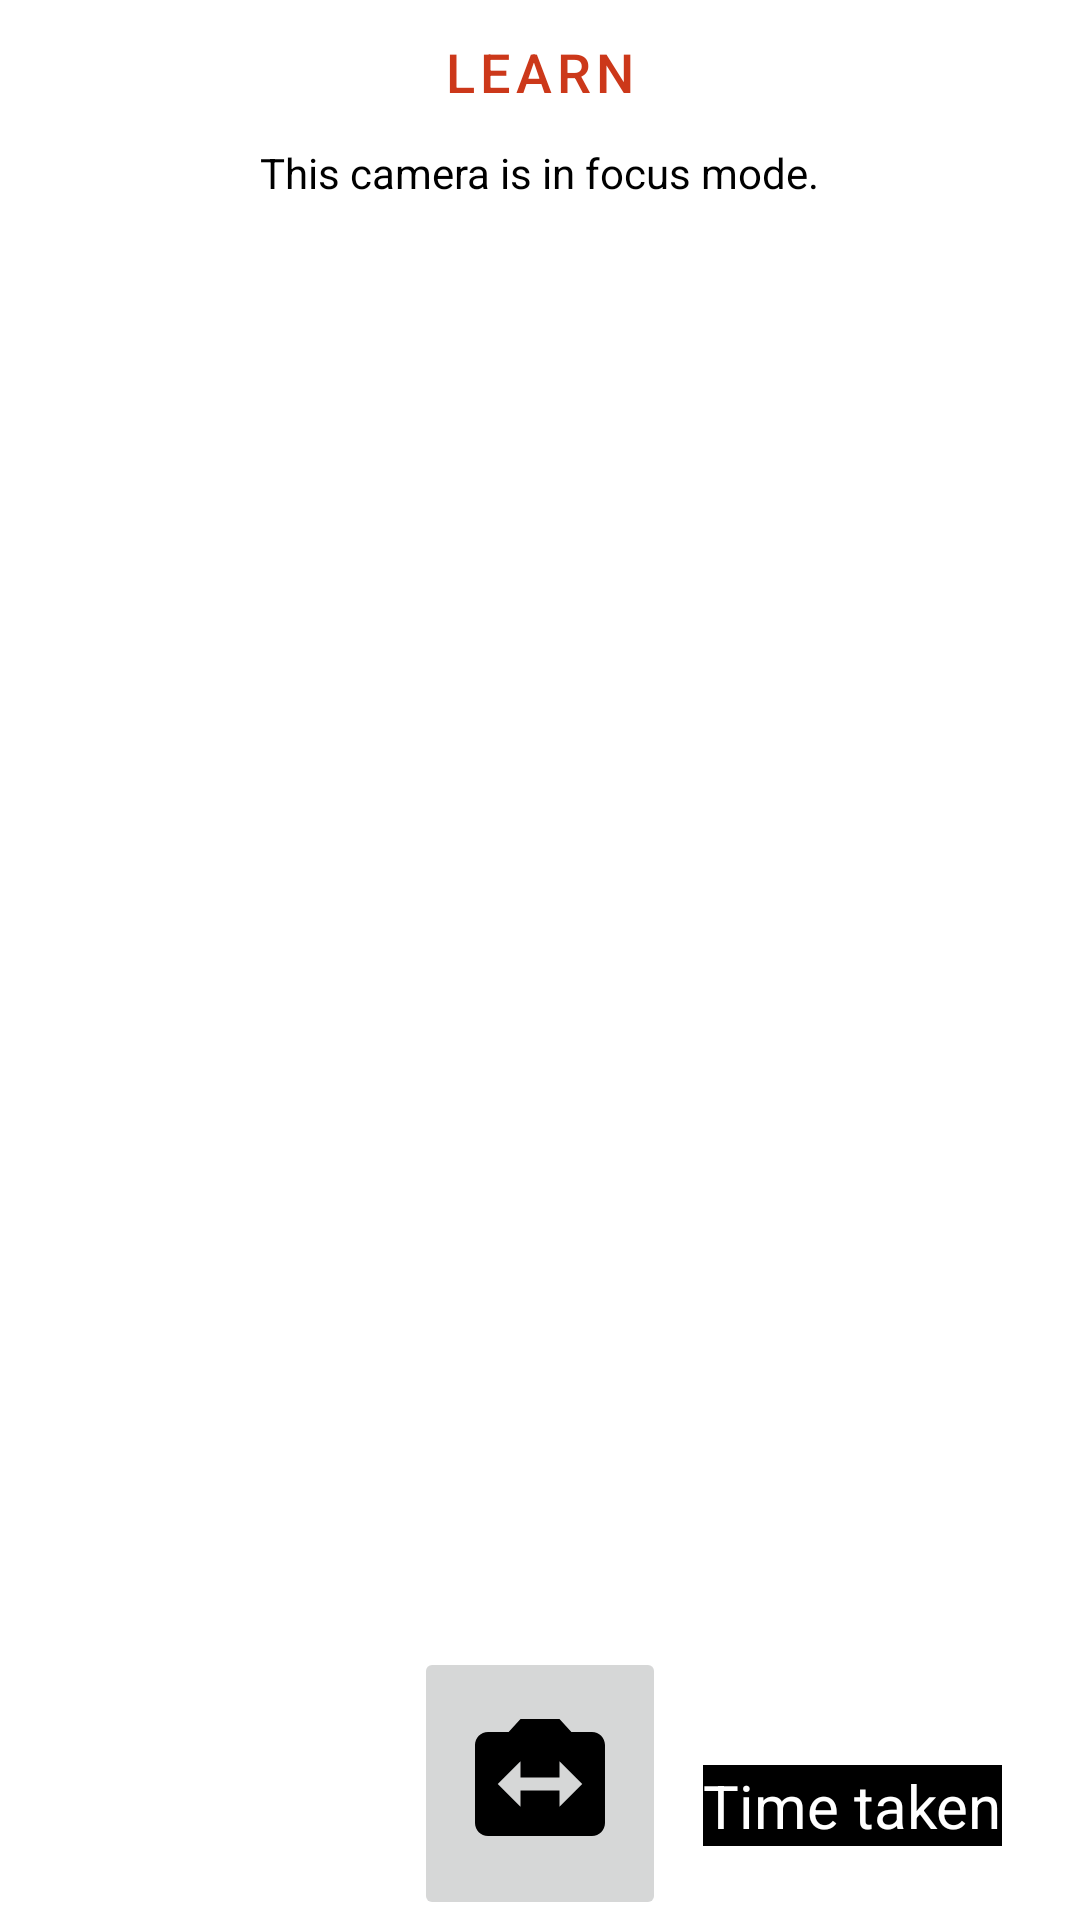

Icons on this 1080×1920 Android screen, each with the point to tap as (x,y):
Flip Camera: (540,1783)
